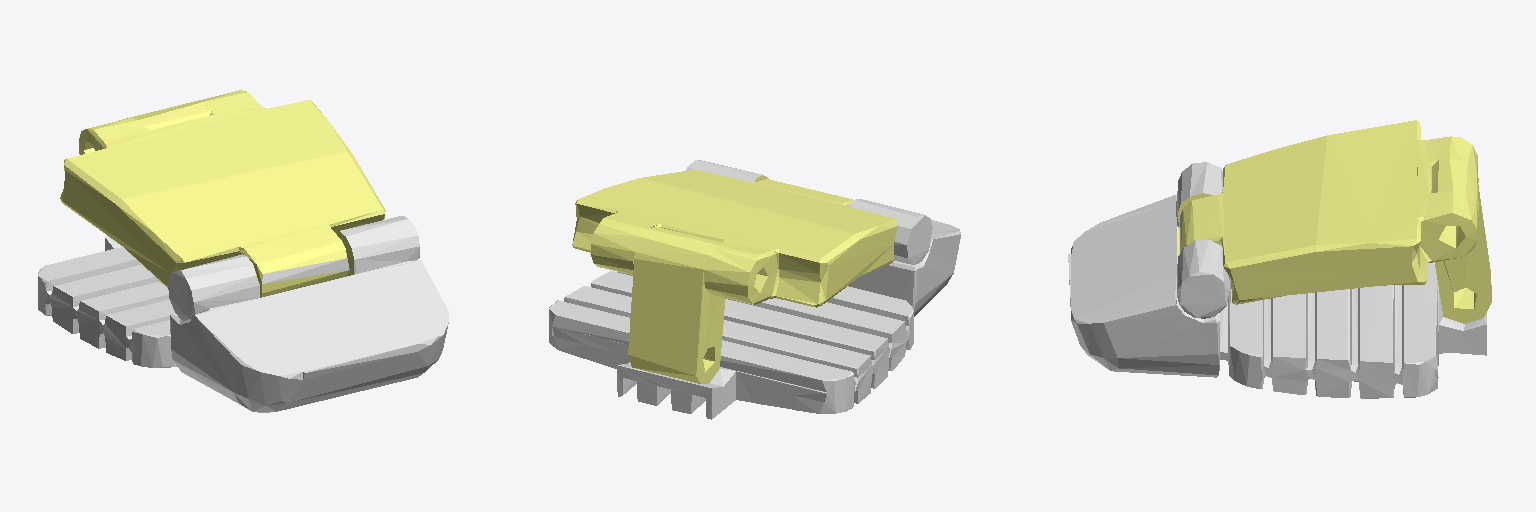
The picture shows the model from 3 angles: view 1: azimuth 30°, elevation 25°; view 2: azimuth 150°, elevation 25°; view 3: azimuth 270°, elevation 25°; orthographic projection.
Parts seen in each view (by area): view 1: link_finger_tip_simplified1:Mesh; view 2: link_finger_tip_simplified1:Mesh; view 3: link_finger_tip_simplified1:Mesh.
Part boxes in pixels (bbox=[...]): link_finger_tip_simplified1:Mesh: bbox=[38, 90, 448, 412]; link_finger_tip_simplified1:Mesh: bbox=[549, 160, 960, 419]; link_finger_tip_simplified1:Mesh: bbox=[1068, 120, 1491, 398].
Size of the model in its own units: 0.039 by 0.0206 by 0.0481.
1 materials, 1 textured.